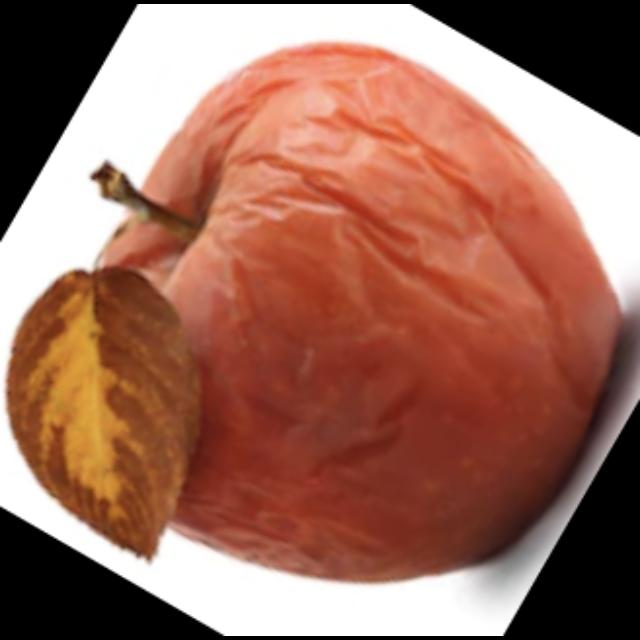Apel Tidak Segar: (78, 31, 628, 595)
